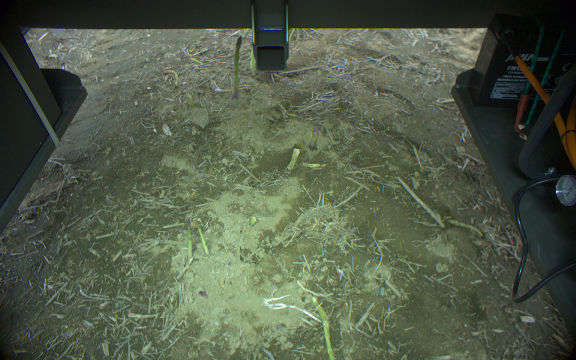aspa: (308, 297, 333, 360), (230, 35, 242, 100), (196, 222, 210, 256), (308, 122, 322, 150), (187, 218, 195, 259), (249, 47, 254, 77)
